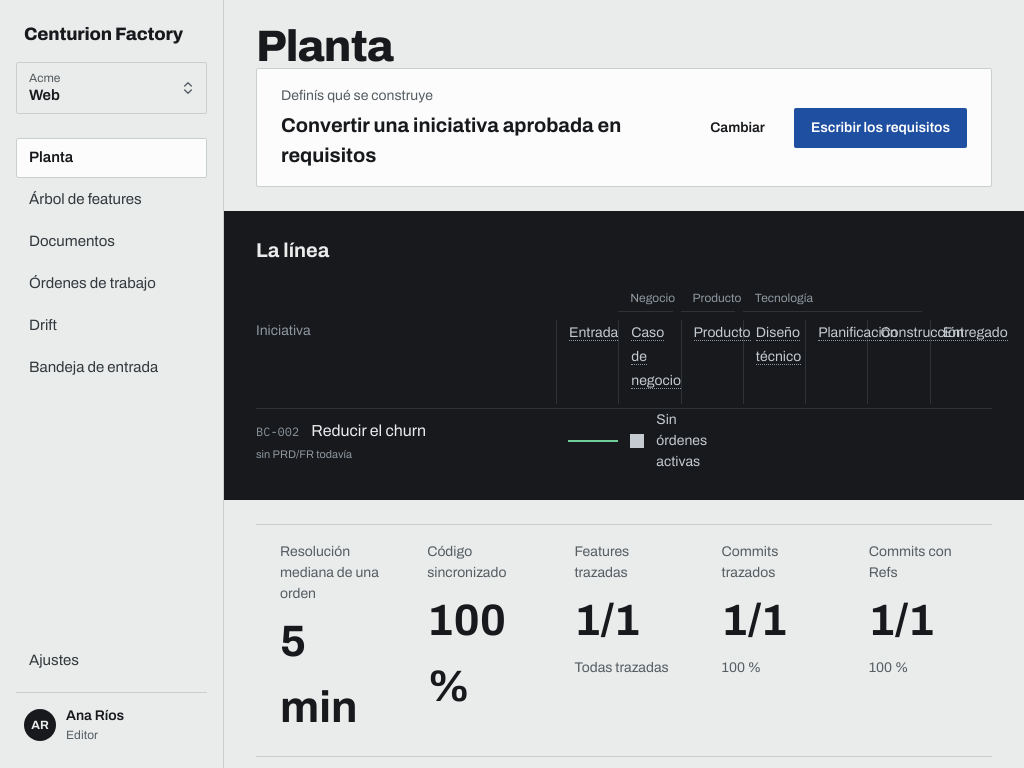
Scenario: ProfileBand — the three paths (WO-547, SDD-051) › producto: a stored profile shows its next step at once and leads to its own path
Expected: the text "Convertir una iniciativa aprobada en requisitos" is shown, [281,110,673,170]
Click the link "Escribir los requisitos" at [880, 128], box [794,108,967,148]
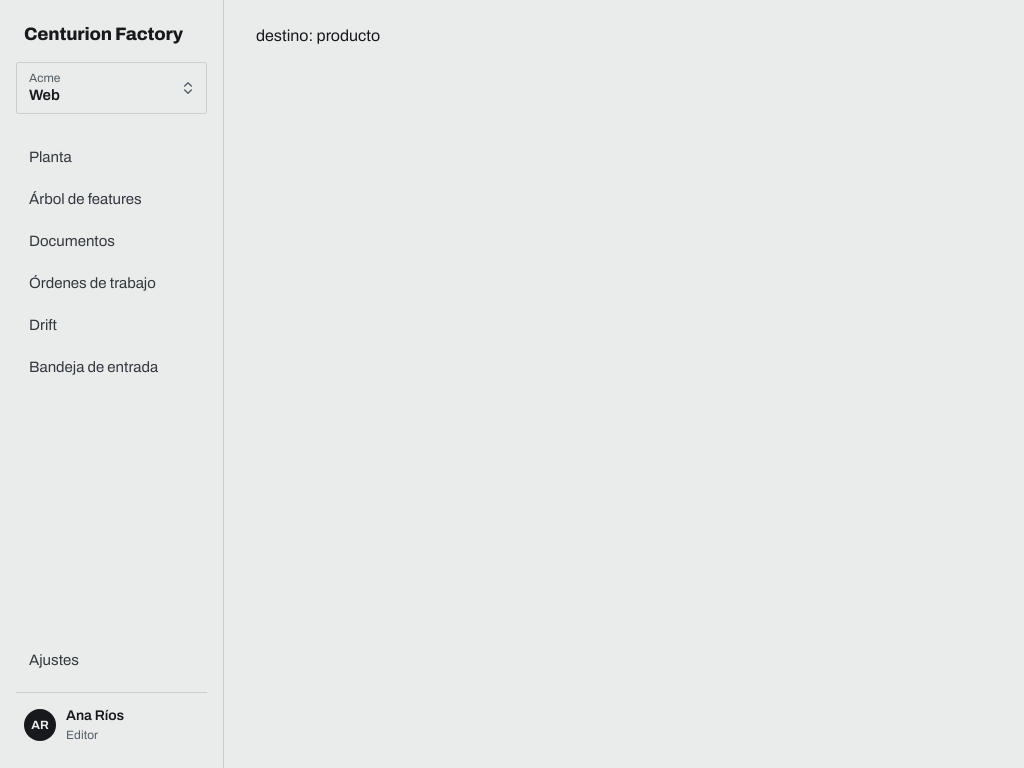
Result: the text "destino: producto" is shown at [256,27,380,44]
